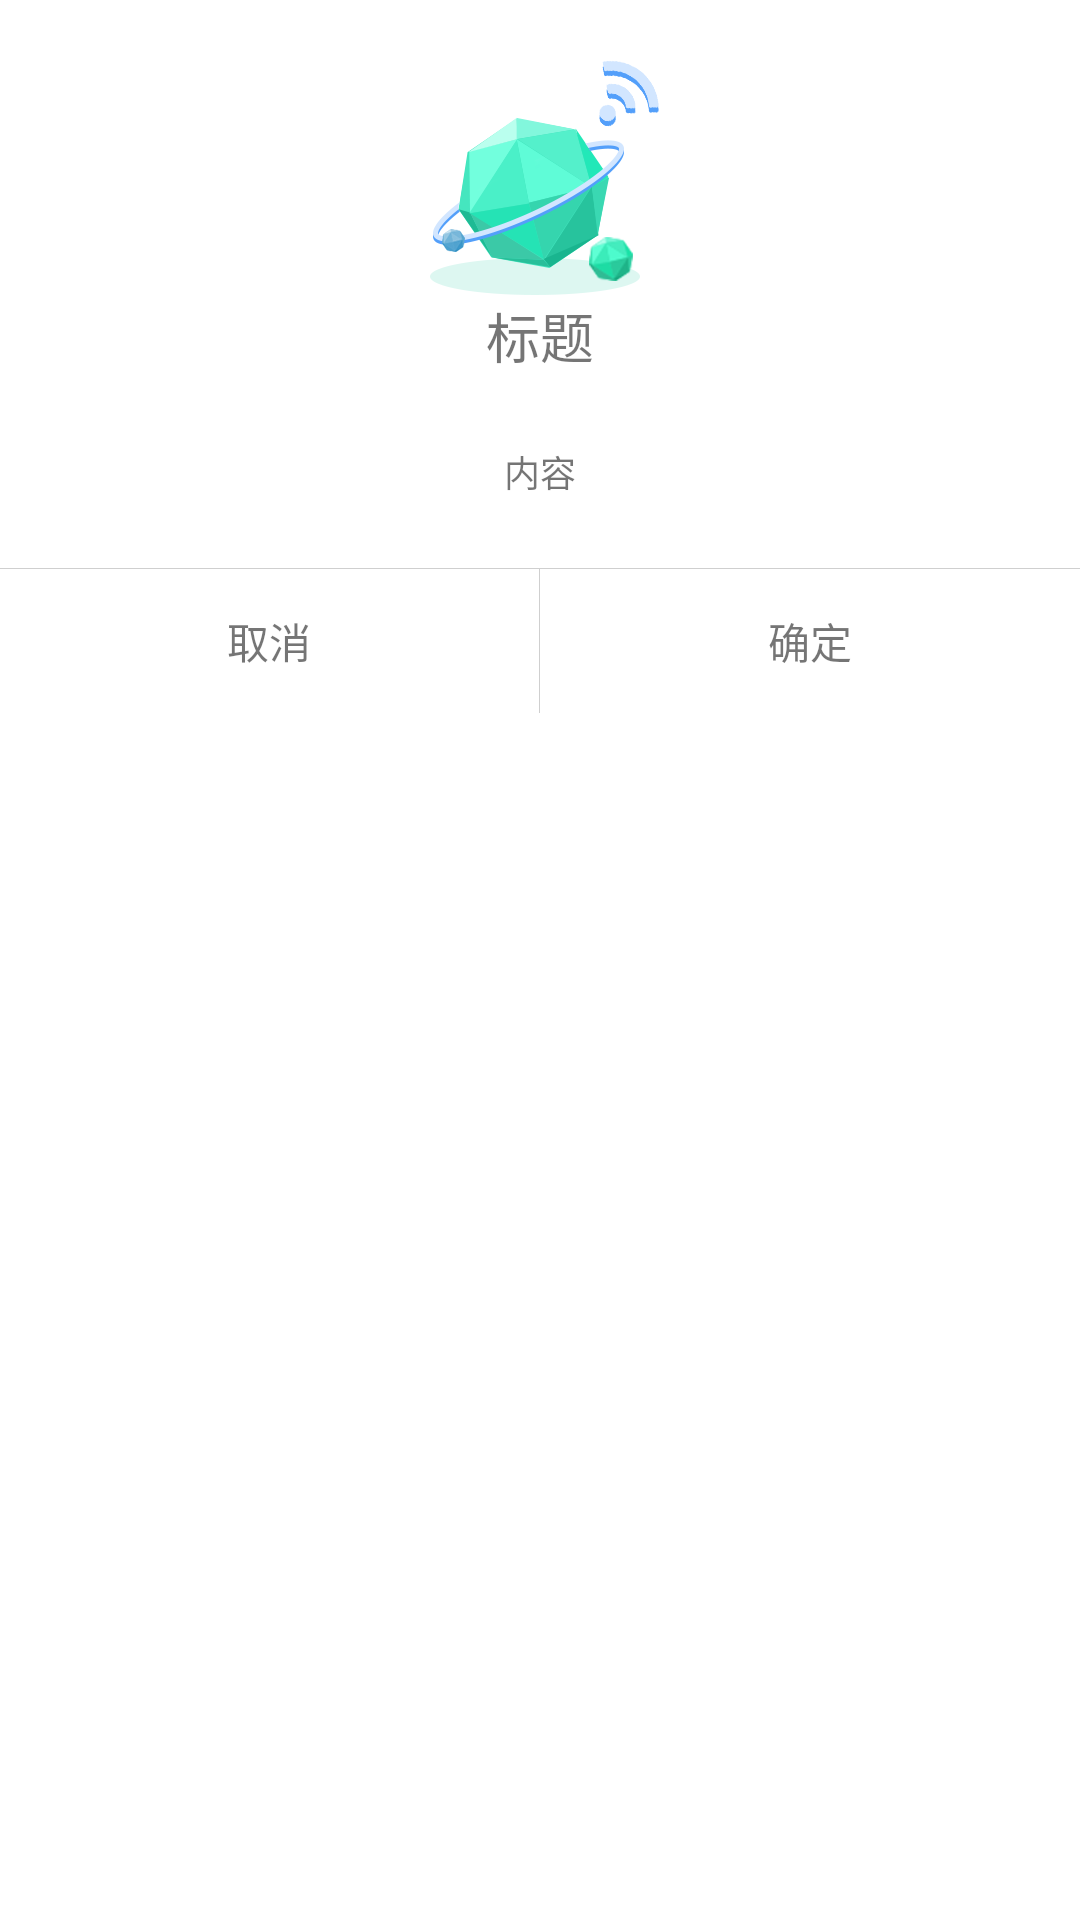

Icon bounding boxes for this 1080 x 1920 phone screenshot, format region(x1, y1, x2, y2):
head wifi: region(430, 61, 659, 354)
